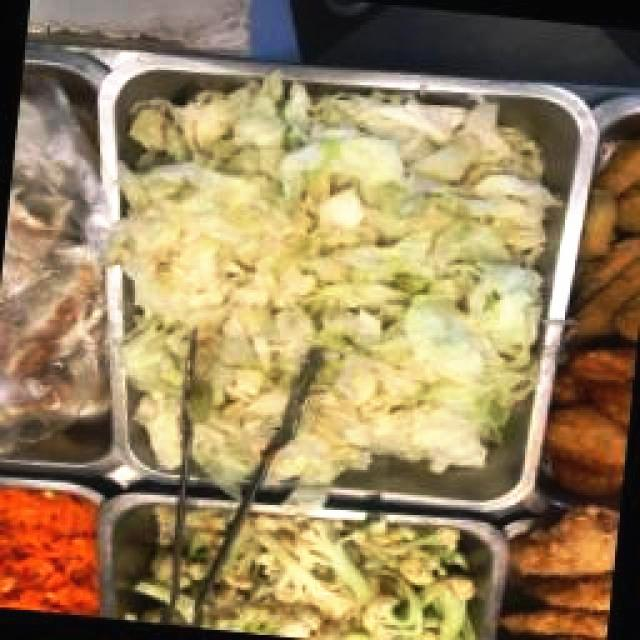carrot_eggs: (0, 484, 103, 616)
chinese_cabbage: (105, 74, 553, 499)
